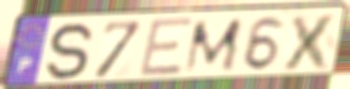6: (240, 15, 285, 73)
7: (93, 19, 144, 81)
E: (137, 16, 196, 80)
M: (181, 16, 246, 76)
S: (44, 20, 96, 84)
X: (279, 11, 342, 72)
